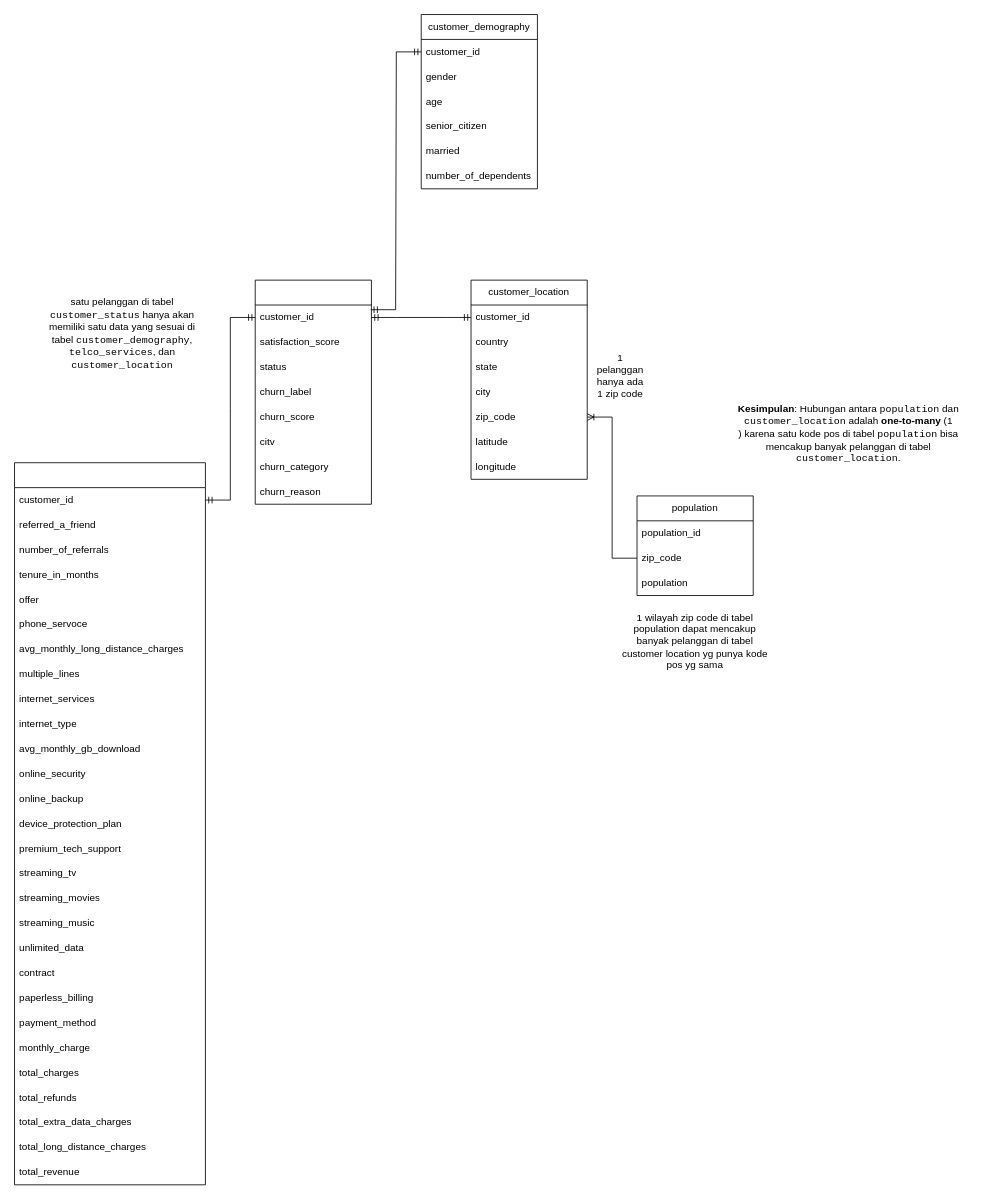
Image size: 992x1199. Some labels were removed from this diagram. Each missing label, with the box of its shape:
customer_status: (254, 279, 371, 504)
telco_services: (14, 462, 205, 1185)
